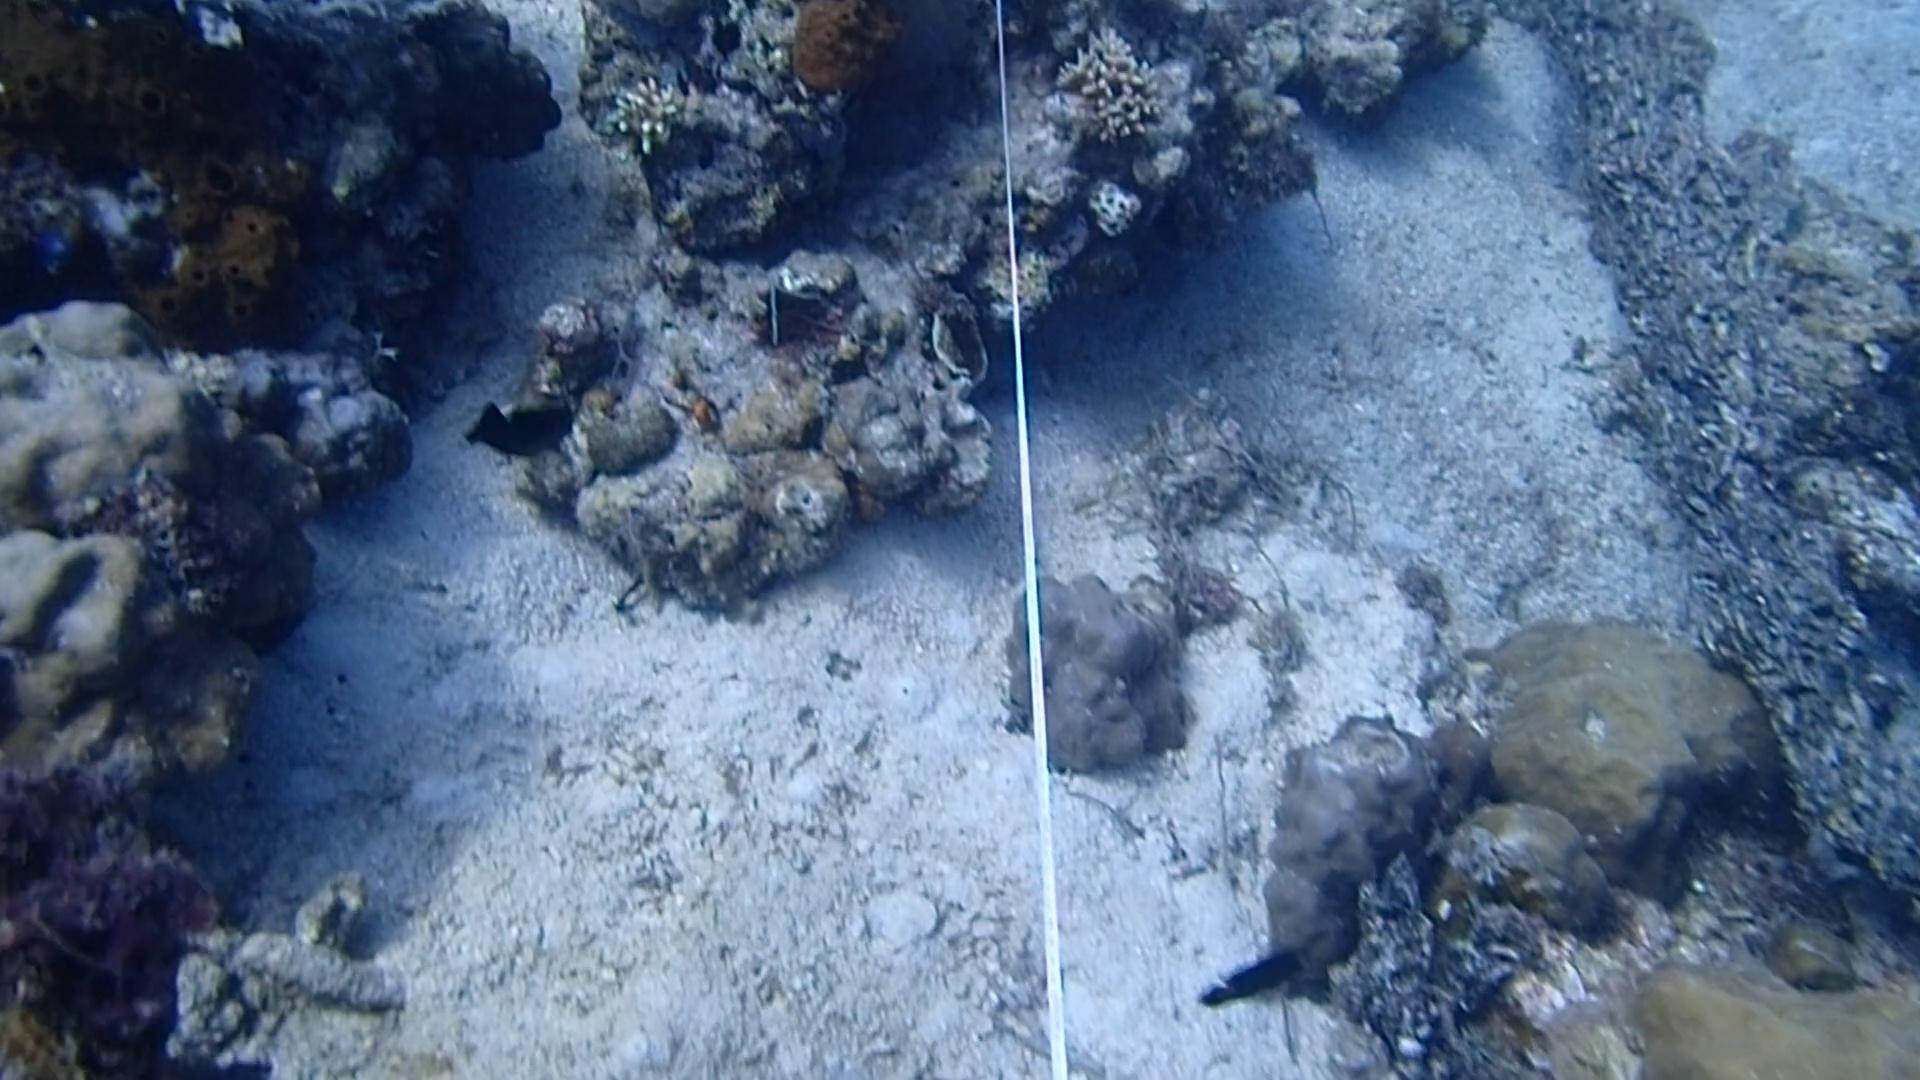Big Dark Blue Fish: (458, 389, 580, 472)
